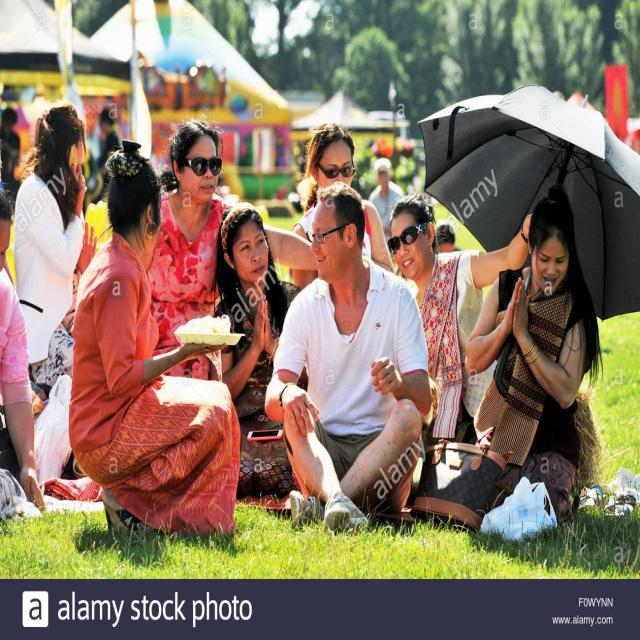body: (66, 134, 248, 554), (262, 177, 434, 536), (460, 176, 605, 535), (144, 117, 320, 383), (386, 192, 533, 498), (208, 200, 308, 502), (12, 101, 102, 402), (289, 121, 397, 292), (0, 184, 47, 515), (80, 102, 123, 279), (0, 106, 23, 292), (367, 157, 405, 261), (435, 221, 461, 255), (154, 165, 178, 199)
